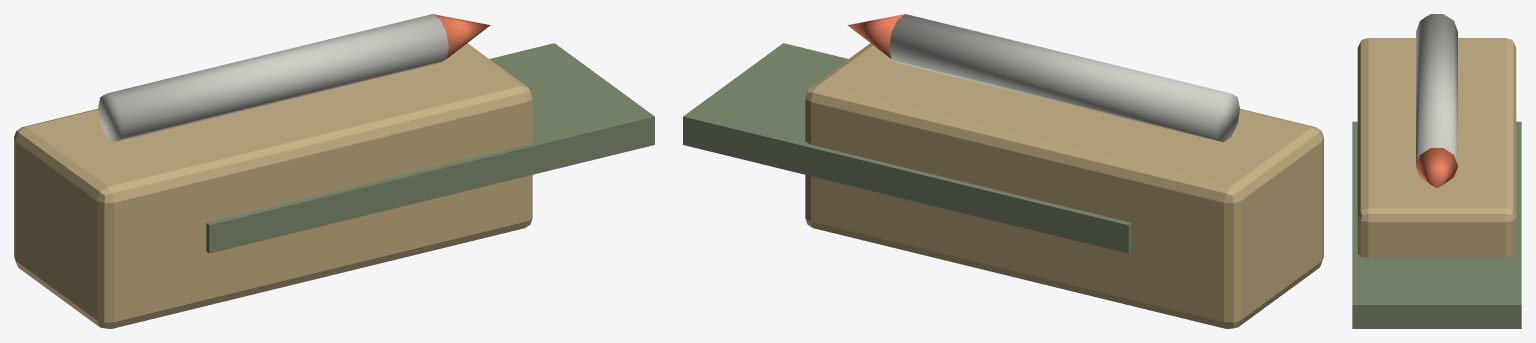
File: rocket_crate.glb
3 views of the same model, side by side, from view 1: azimuth 30°, elevation 25°; view 2: azimuth 150°, elevation 25°; view 3: azimuth 270°, elevation 25° (orthographic). The views are drawn at different scales.
Visible parts, largest first — view 1: rocket_crate; view 2: rocket_crate; view 3: rocket_crate.
Boxes of the visible parts, left/top/right/bottom form: rocket_crate: left=14, top=14, right=654, bottom=328; rocket_crate: left=683, top=14, right=1323, bottom=328; rocket_crate: left=1352, top=14, right=1521, bottom=328.
Bounding box in the file's own units: 1.01 × 0.338 × 0.32.
